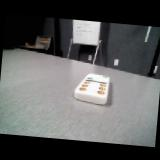domino: (74, 73, 108, 104)
